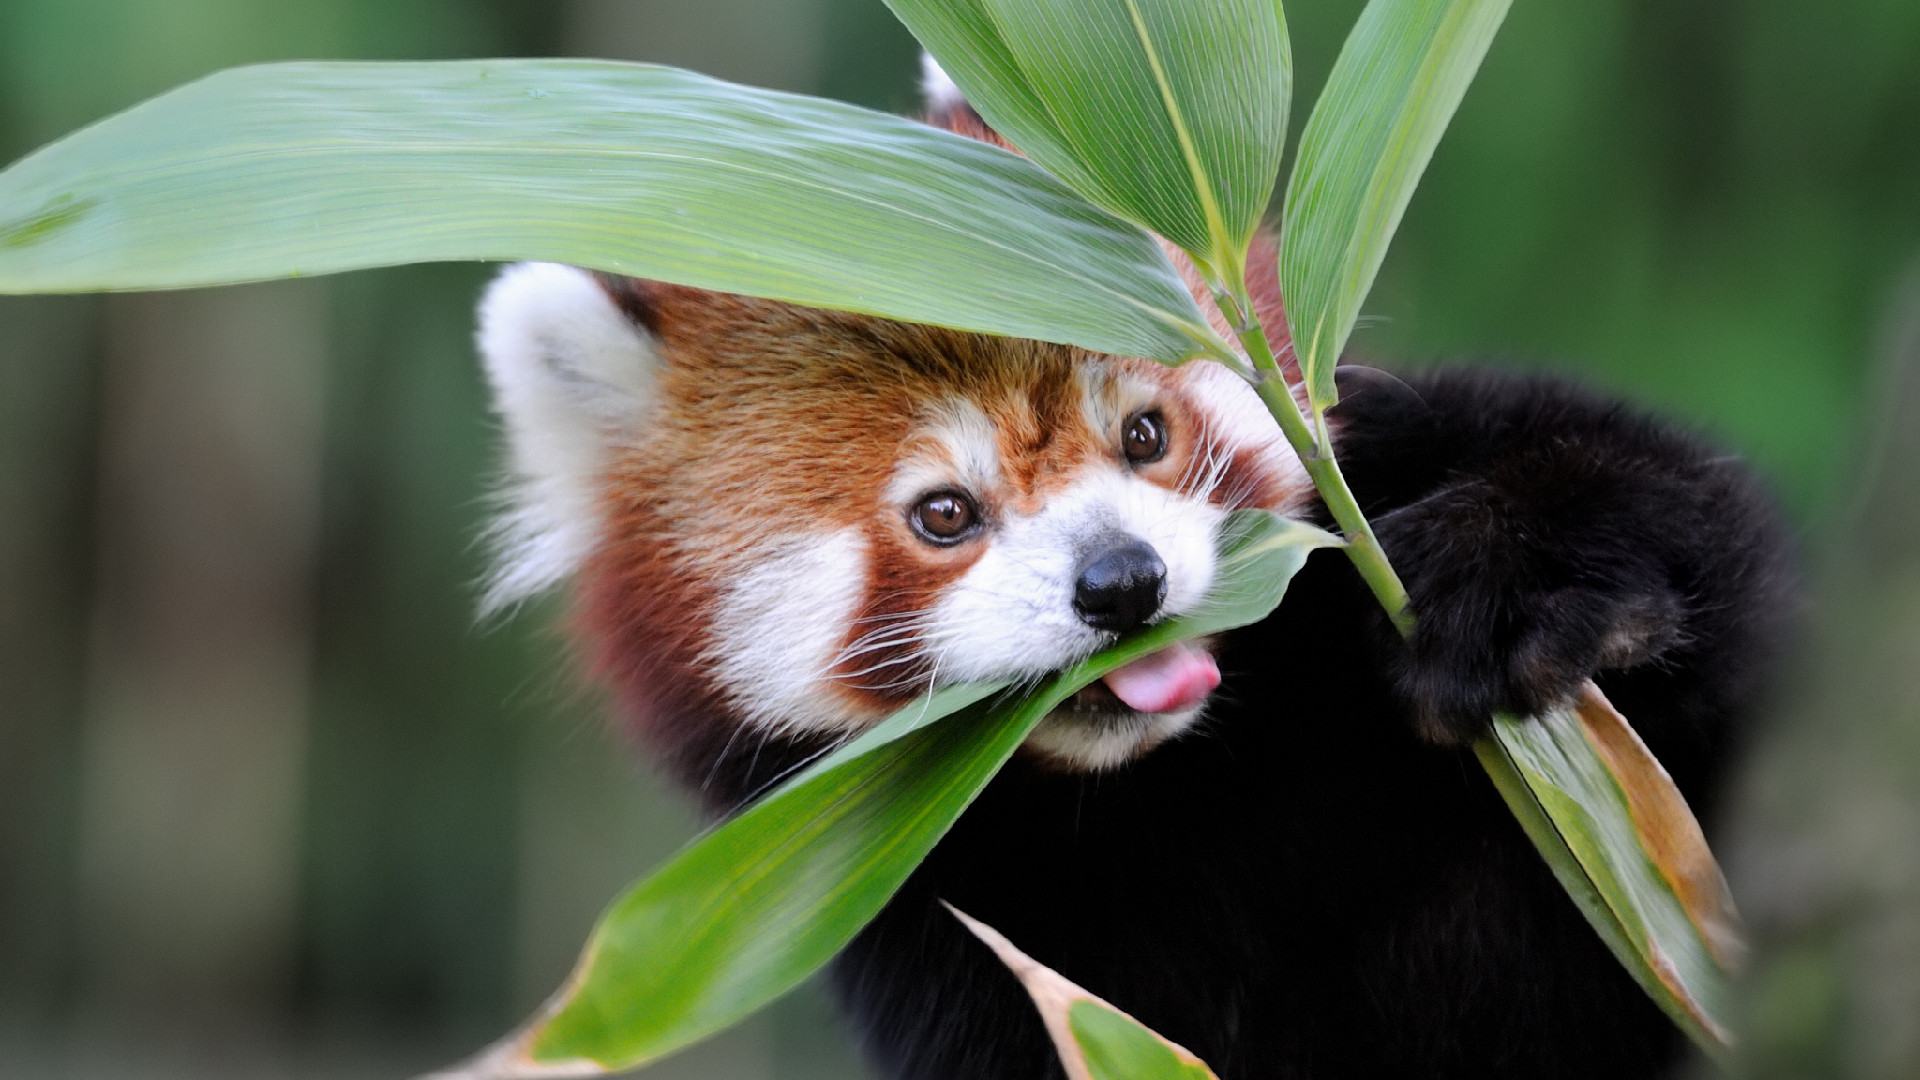Red panda: (488, 160, 1284, 767)
